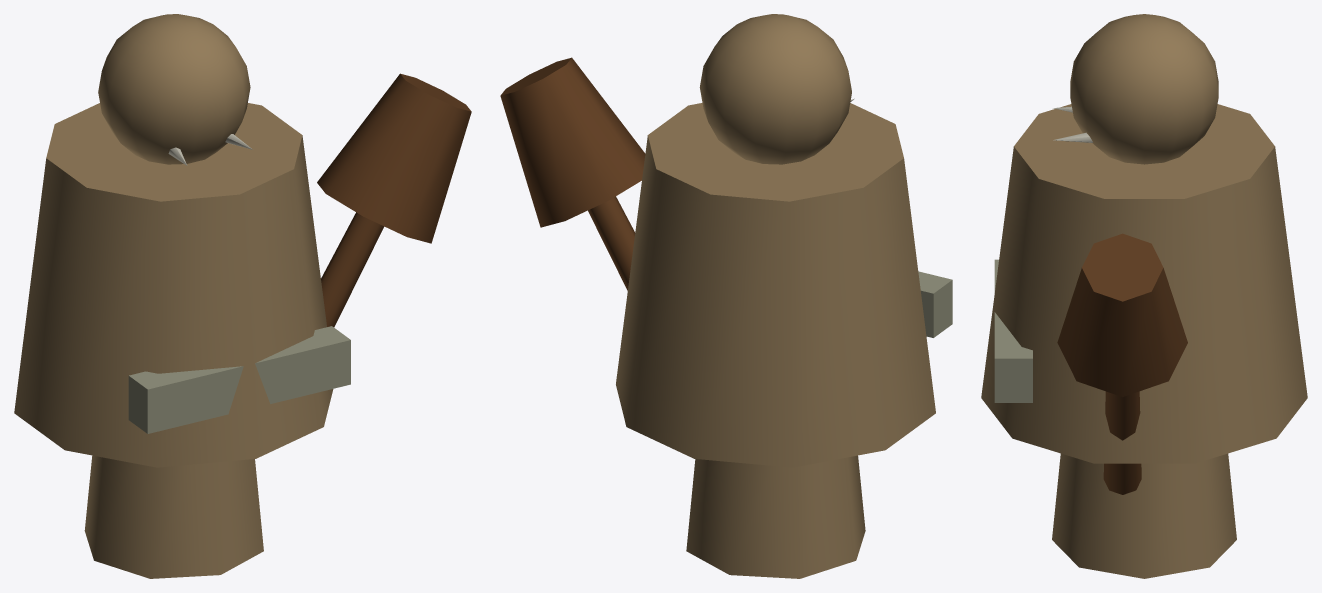
The model's file is ogre_warrior.glb.
3 views of the same model, side by side, from view 1: azimuth 30°, elevation 25°; view 2: azimuth 150°, elevation 25°; view 3: azimuth 270°, elevation 25° (orthographic).
Parts seen in each view (by area): view 1: ogre-warrior-bulk-body, ogre-warrior-legs, ogre-warrior-head, ogre-warrior-club-head, ogre-warrior-neutral-belt, ogre-warrior-club-handle; view 2: ogre-warrior-bulk-body, ogre-warrior-legs, ogre-warrior-head, ogre-warrior-club-head, ogre-warrior-club-handle, ogre-warrior-neutral-belt; view 3: ogre-warrior-bulk-body, ogre-warrior-legs, ogre-warrior-head, ogre-warrior-club-head, ogre-warrior-neutral-belt, ogre-warrior-club-handle.
Boxes of the visible parts, <box> form: ogre-warrior-bulk-body: <box>14,103,333,467</box>; ogre-warrior-legs: <box>84,455,263,578</box>; ogre-warrior-head: <box>98,14,250,164</box>; ogre-warrior-club-head: <box>317,73,471,243</box>; ogre-warrior-neutral-belt: <box>128,326,350,433</box>; ogre-warrior-club-handle: <box>321,212,384,327</box>; ogre-warrior-bulk-body: <box>616,103,935,467</box>; ogre-warrior-legs: <box>686,455,865,578</box>; ogre-warrior-head: <box>699,14,851,164</box>; ogre-warrior-club-head: <box>500,57,645,227</box>; ogre-warrior-club-handle: <box>588,196,635,290</box>; ogre-warrior-neutral-belt: <box>918,271,952,337</box>; ogre-warrior-bulk-body: <box>981,104,1307,463</box>; ogre-warrior-legs: <box>1052,453,1236,578</box>; ogre-warrior-head: <box>1070,14,1218,164</box>; ogre-warrior-club-head: <box>1057,233,1187,396</box>; ogre-warrior-neutral-belt: <box>994,259,1032,402</box>; ogre-warrior-club-handle: <box>1103,391,1141,494</box>.
Size of the model in its own units: 1.76 by 2.1 by 1.2.
